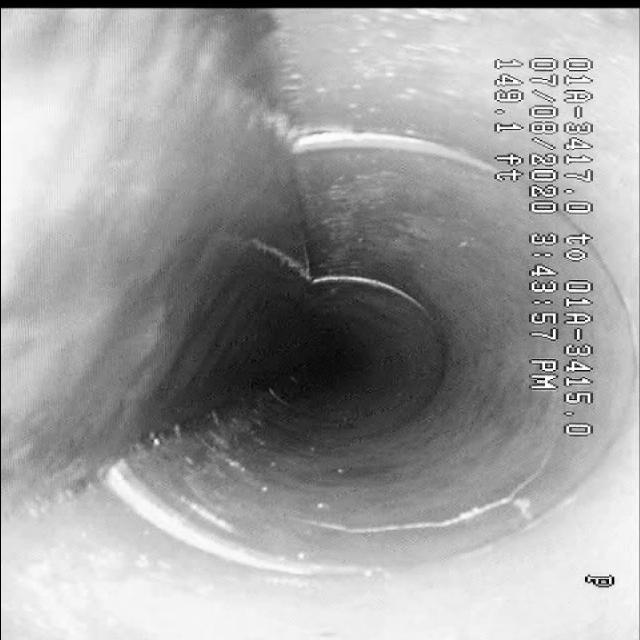Crack: (319, 477, 548, 548)
